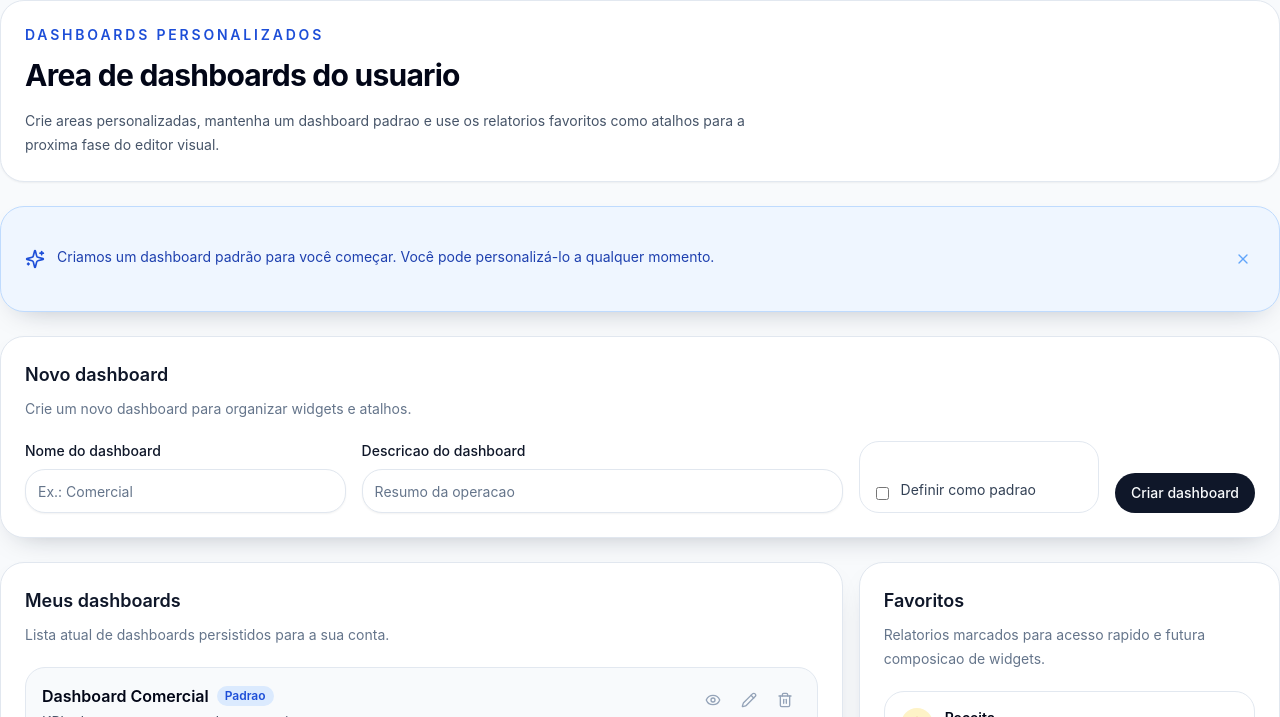
Test: DashboardWorkspace › banner de boas-vindas e dismissível
Expected: the text "Dashboard Comercial" is shown, left=42, top=684, right=209, bottom=708
Expected: the text "Criamos um dashboard padrão para você começar" is shown, left=57, top=248, right=714, bottom=265
Click the button named "Fechar aviso": (1243, 259) left=1231, top=247, right=1255, bottom=271
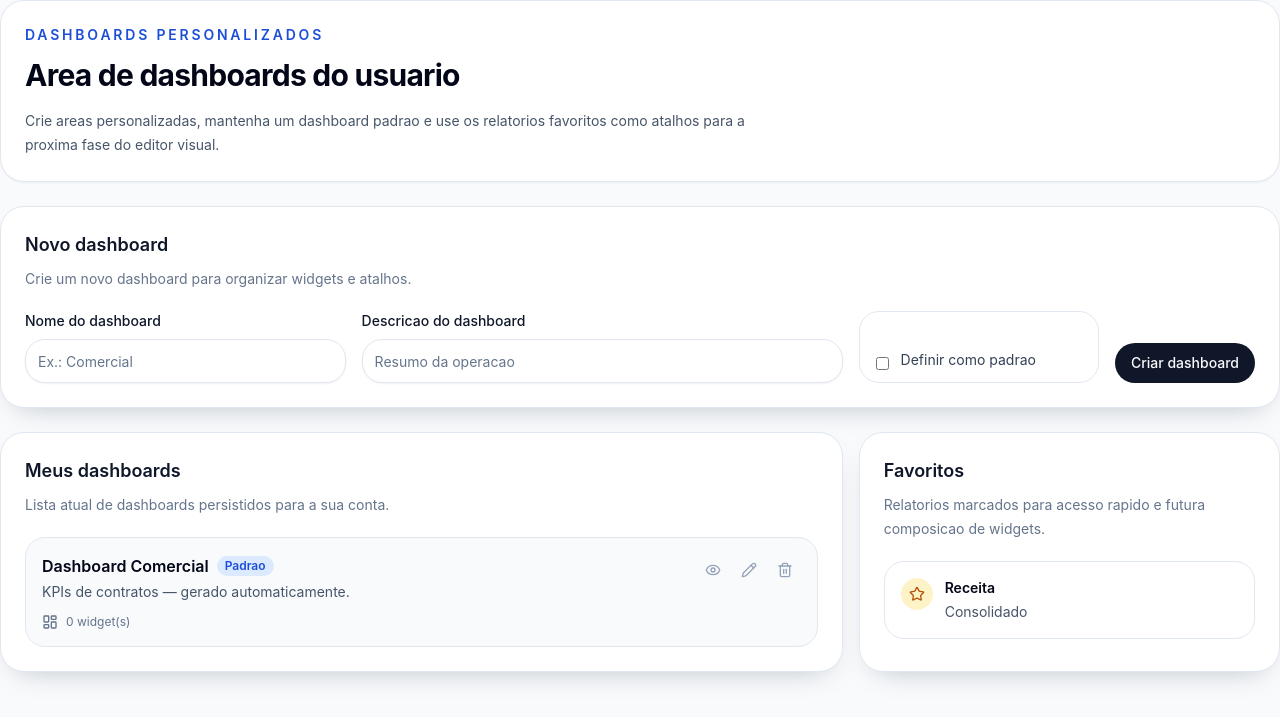
Expected: the text "Criamos um dashboard padrão para você começar" is gone
